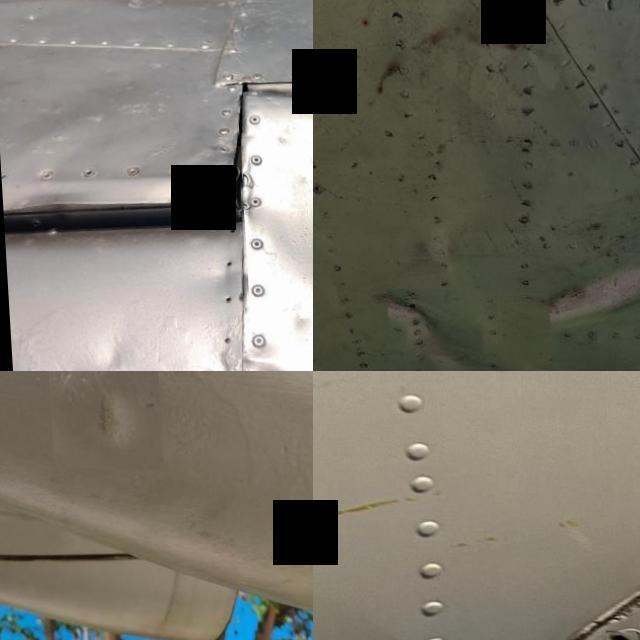Crack: (458, 580, 573, 640), (570, 527, 640, 623)
Dent: (533, 99, 640, 341), (382, 287, 549, 371), (44, 371, 159, 467)
Missing_Fastener: (599, 626, 630, 640)
